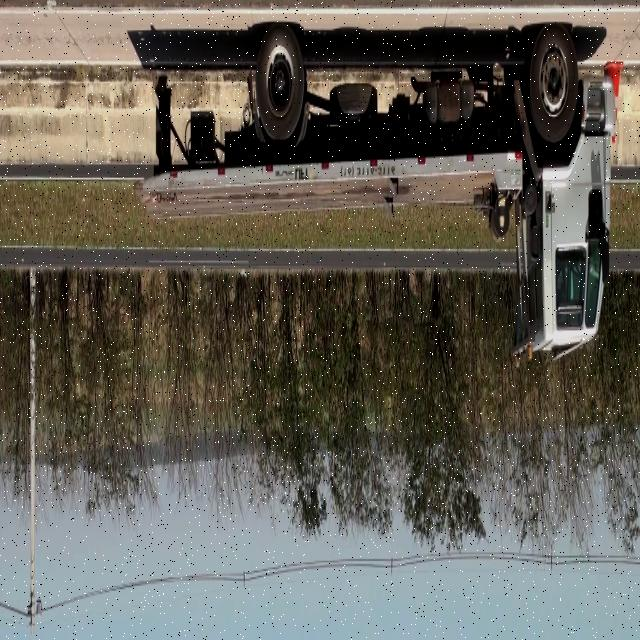-axle: (527, 23, 581, 143), (259, 30, 303, 143)
